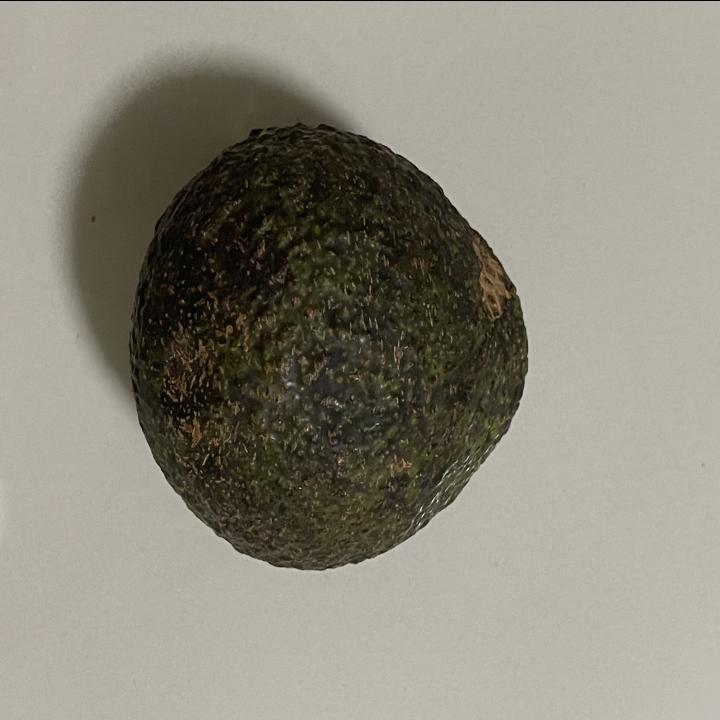Level1: (114, 107, 544, 589)
